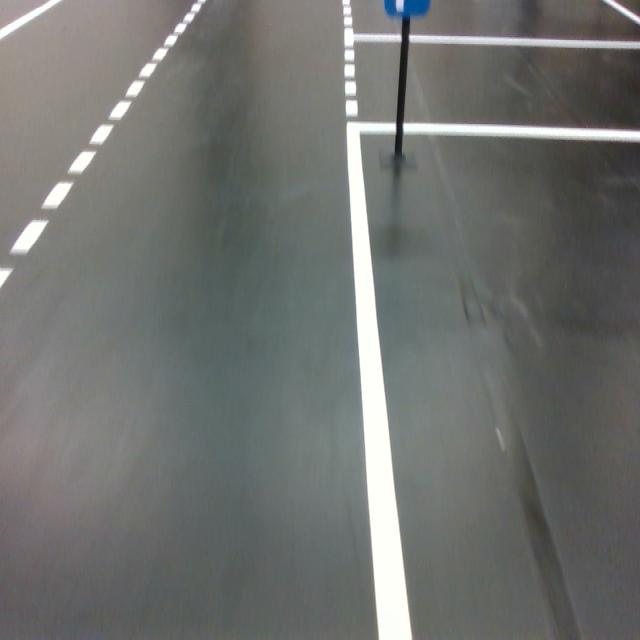parking-sign: (383, 0, 431, 16)
